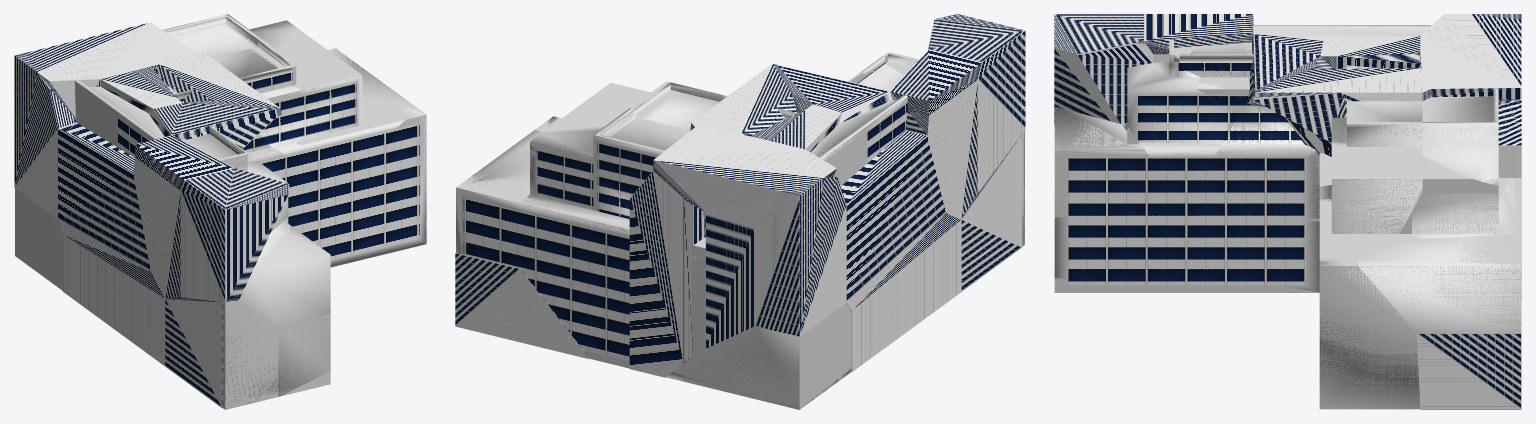
File: debri12.fbx
The picture shows the model from 3 angles, left to right: view 1: azimuth 30°, elevation 25°; view 2: azimuth 150°, elevation 25°; view 3: azimuth 270°, elevation 25°; orthographic projection. The views are drawn at different scales.
Visible parts, largest first — view 1: polySurface2, polySurface2_cell.001, polySurface2_cell.010, polySurface2_cell.030, polySurface2_cell.002, polySurface2_cell, polySurface2_cell.033, polySurface2_cell.015, polySurface2_cell.021, polySurface2_cell.012, polySurface2_cell.019, polySurface2_cell.024 (+12 smaller); view 2: polySurface2, polySurface2_cell.018, polySurface2_cell.021, polySurface2_cell.030, polySurface2_cell.015, polySurface2_cell.006, polySurface2_cell, polySurface2_cell.001, polySurface2_cell.014, polySurface2_cell.020, polySurface2_cell.029, polySurface2_cell.012 (+11 smaller); view 3: polySurface2, polySurface2_cell.029, polySurface2_cell.010, polySurface2_cell.022, polySurface2_cell.032, polySurface2_cell.001, polySurface2_cell.002, polySurface2_cell.035, polySurface2_cell.003, polySurface2_cell.015, polySurface2_cell.014, polySurface2_cell.026 (+11 smaller).
Part boxes in pixels (x1=…): polySurface2: x1=15, y1=16, x2=426, y2=409; polySurface2_cell.001: x1=180, y1=168, x2=289, y2=302; polySurface2_cell.010: x1=316, y1=103, x2=426, y2=267; polySurface2_cell.030: x1=58, y1=122, x2=150, y2=271; polySurface2_cell.002: x1=212, y1=41, x2=405, y2=189; polySurface2_cell: x1=63, y1=235, x2=165, y2=366; polySurface2_cell.033: x1=238, y1=216, x2=330, y2=328; polySurface2_cell.015: x1=26, y1=22, x2=193, y2=118; polySurface2_cell.021: x1=14, y1=53, x2=75, y2=219; polySurface2_cell.012: x1=165, y1=297, x2=222, y2=408; polySurface2_cell.019: x1=133, y1=157, x2=180, y2=298; polySurface2_cell.024: x1=148, y1=100, x2=277, y2=148; polySurface2: x1=456, y1=52, x2=1024, y2=409; polySurface2_cell.018: x1=520, y1=155, x2=637, y2=360; polySurface2_cell.021: x1=755, y1=176, x2=846, y2=336; polySurface2_cell.030: x1=840, y1=130, x2=946, y2=310; polySurface2_cell.015: x1=653, y1=127, x2=836, y2=227; polySurface2_cell.006: x1=629, y1=171, x2=683, y2=377; polySurface2_cell: x1=851, y1=213, x2=961, y2=372; polySurface2_cell.001: x1=928, y1=14, x2=1025, y2=192; polySurface2_cell.014: x1=455, y1=253, x2=589, y2=359; polySurface2_cell.020: x1=530, y1=108, x2=690, y2=188; polySurface2_cell.029: x1=456, y1=130, x2=542, y2=268; polySurface2_cell.012: x1=961, y1=134, x2=1022, y2=291; polySurface2: x1=1054, y1=25, x2=1521, y2=409; polySurface2_cell.029: x1=1358, y1=235, x2=1521, y2=333; polySurface2_cell.010: x1=1319, y1=258, x2=1420, y2=409; polySurface2_cell.022: x1=1197, y1=103, x2=1324, y2=218; polySurface2_cell.032: x1=1121, y1=62, x2=1233, y2=209; polySurface2_cell.001: x1=1054, y1=14, x2=1153, y2=125; polySurface2_cell.002: x1=1319, y1=93, x2=1422, y2=233; polySurface2_cell.035: x1=1187, y1=221, x2=1319, y2=292; polySurface2_cell.003: x1=1054, y1=217, x2=1186, y2=278; polySurface2_cell.015: x1=1420, y1=14, x2=1521, y2=101; polySurface2_cell.014: x1=1417, y1=301, x2=1521, y2=409; polySurface2_cell.026: x1=1253, y1=68, x2=1431, y2=142.
Size of the model in its own units: 4858 by 2896 by 5519.
